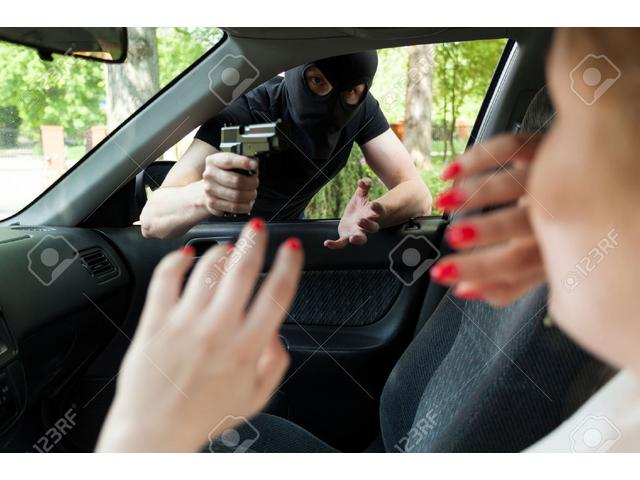pistol: (214, 119, 284, 214)
